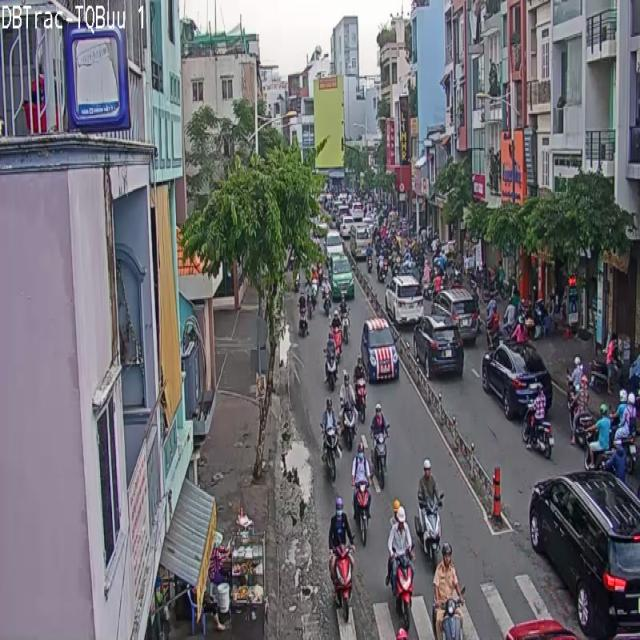car: (386, 506, 413, 627), (416, 458, 443, 559), (435, 545, 463, 639), (522, 385, 554, 458), (329, 542, 354, 620), (322, 398, 338, 479), (354, 471, 370, 545), (374, 434, 386, 488), (342, 405, 357, 448), (355, 377, 365, 421)
traffic-light: (529, 471, 639, 639), (482, 344, 552, 418), (414, 306, 463, 377), (361, 320, 398, 378), (385, 276, 423, 324)
